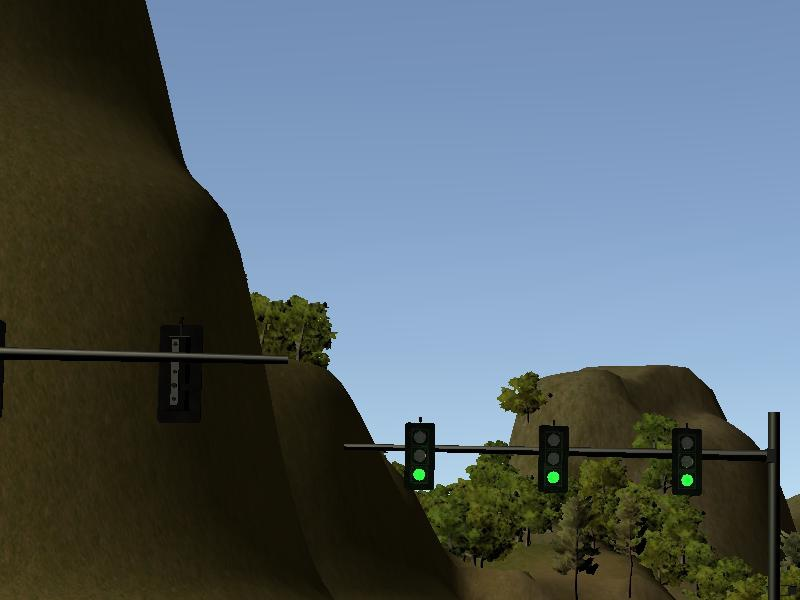Green: (405, 423, 435, 489), (540, 425, 568, 493), (674, 428, 700, 496)
